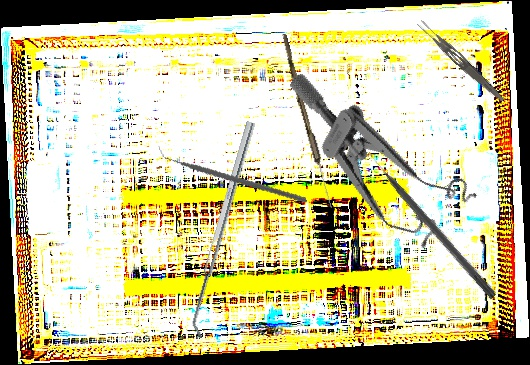Chopper: (157, 110, 308, 237)
Dressing Forceps: (414, 18, 509, 104)
Pusher: (365, 149, 499, 300)
Spatula Surgical: (185, 120, 264, 339)
Speculum: (251, 71, 488, 259)
Surgical Spoon: (278, 33, 336, 209)
